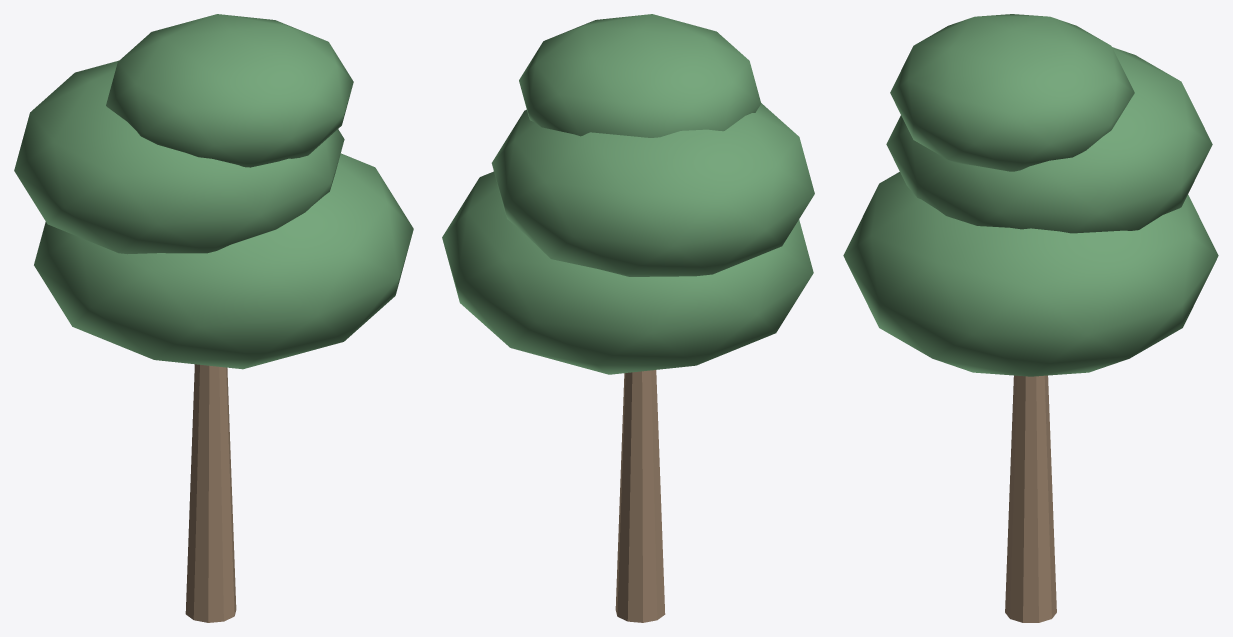
File: Pine_Coastal.fbx
3 renders of one model, left to right at view 1: azimuth 30°, elevation 25°; view 2: azimuth 150°, elevation 25°; view 3: azimuth 270°, elevation 25°, orthographic. The views are drawn at different scales.
Parts seen in each view (by area): view 1: Icosphere, Icosphere.001, Icosphere.002, Cone; view 2: Icosphere.001, Icosphere, Icosphere.002, Cone; view 3: Icosphere, Icosphere.002, Icosphere.001, Cone.
Boxes of the visible parts, left/top/right/bottom form: Icosphere: left=34, top=153, right=413, bottom=369; Icosphere.001: left=14, top=60, right=344, bottom=254; Icosphere.002: left=106, top=14, right=353, bottom=167; Cone: left=185, top=364, right=236, bottom=622; Icosphere.001: left=491, top=103, right=814, bottom=276; Icosphere: left=442, top=171, right=813, bottom=374; Icosphere.002: left=519, top=14, right=761, bottom=137; Cone: left=615, top=370, right=665, bottom=622; Icosphere: left=843, top=172, right=1218, bottom=376; Icosphere.002: left=890, top=14, right=1134, bottom=171; Icosphere.001: left=886, top=47, right=1212, bottom=233; Cone: left=1005, top=375, right=1056, bottom=622.
Bounding box in the file's own units: 5.25 × 8.73 × 5.06.
